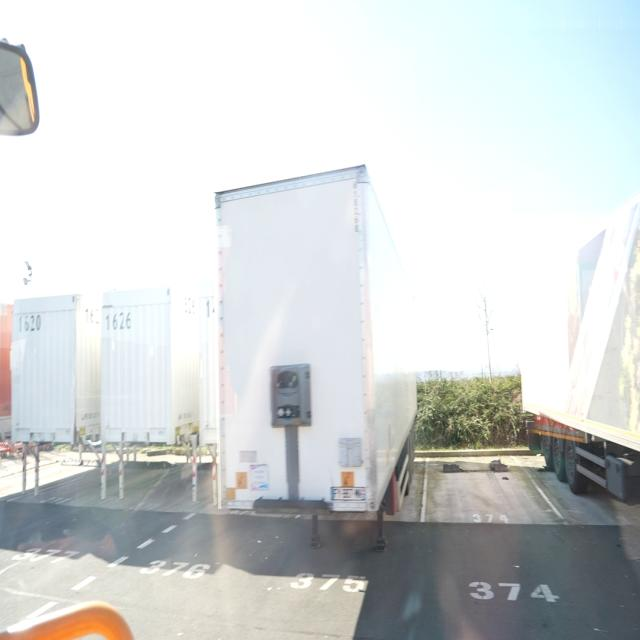Code: (102, 304, 138, 339), (16, 307, 48, 340)
